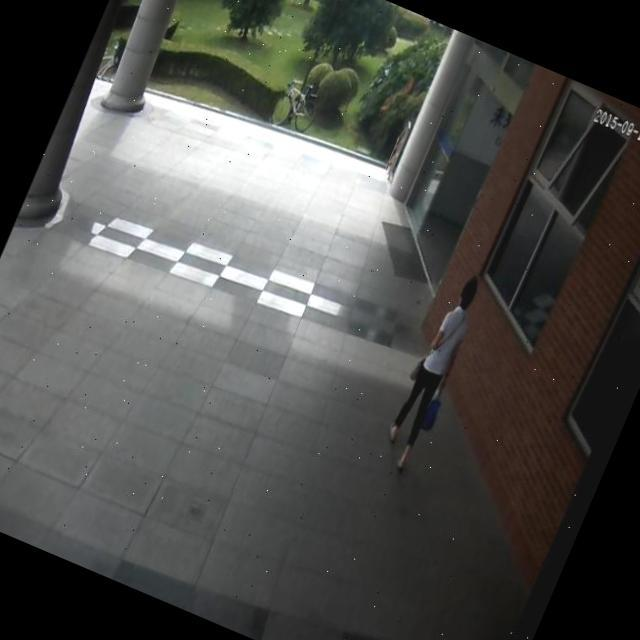person: (368, 263, 500, 486)
